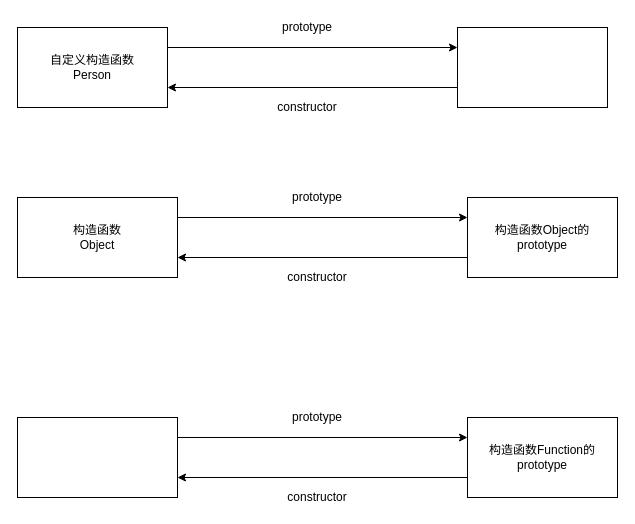
Some shapes in this 635 by 524 pixel diagram are drawn without their labels. Here are the shapes that lost their labels. From the top down, the centre of each, then its label:
At (x=532, y=67): "构造函数Person的 prototype".
At (x=97, y=457): "构造函数 Function".
